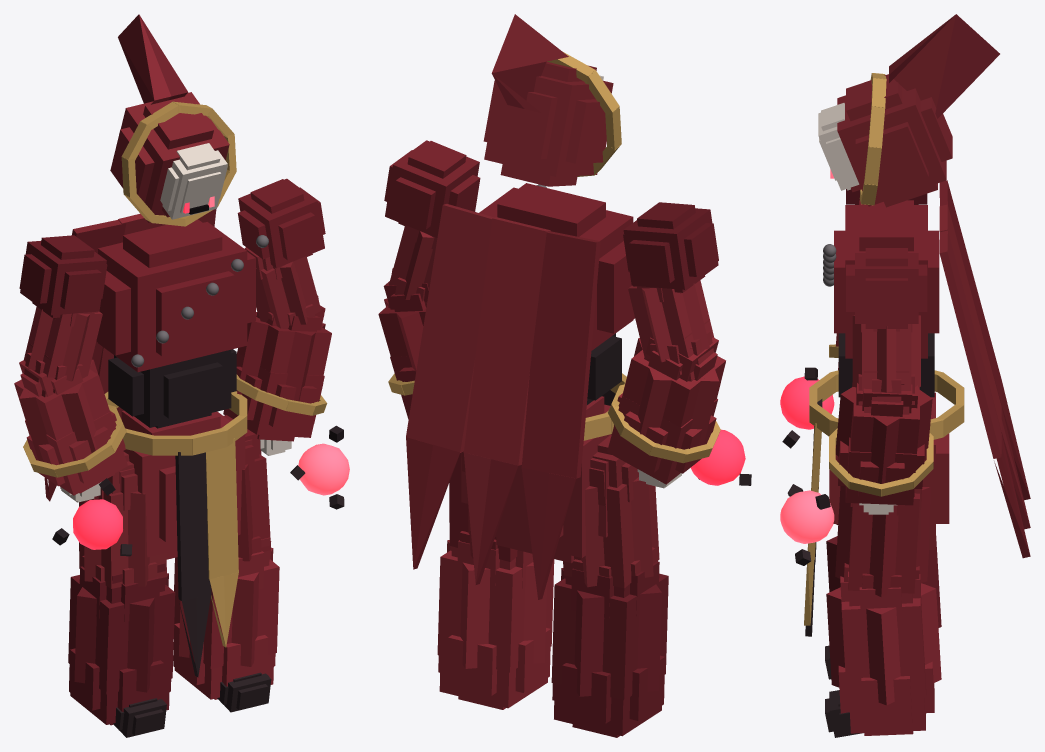
3 views of the same model, side by side, from view 1: azimuth 30°, elevation 25°; view 2: azimuth 150°, elevation 25°; view 3: azimuth 270°, elevation 25° (orthographic). The views are drawn at different scales.
Parts seen in each view (by area): view 1: BloodAcolyte; view 2: BloodAcolyte; view 3: BloodAcolyte.
Part boxes in pixels (left/top/right/bottom): BloodAcolyte: left=14, top=14, right=349, bottom=737; BloodAcolyte: left=378, top=14, right=751, bottom=737; BloodAcolyte: left=780, top=14, right=1030, bottom=737.
Bounding box in the file's own units: 0.7573 × 1.57 × 0.5166.
